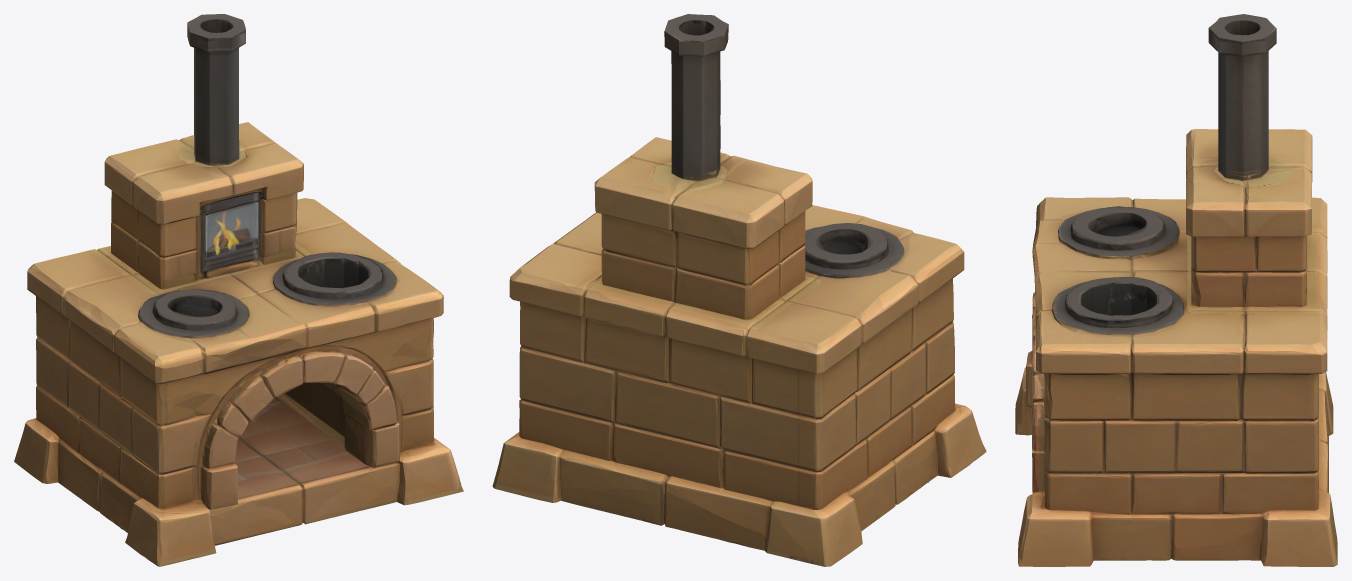
The model's file is Cozy_Hearth_Cauldron_0413143158_texture.fbx.
3 renders of one model, left to right at view 1: azimuth 30°, elevation 25°; view 2: azimuth 150°, elevation 25°; view 3: azimuth 270°, elevation 25°, orthographic. The views are drawn at different scales.
Visible parts, largest first — view 1: temp; view 2: temp; view 3: temp.
Boxes of the visible parts, left/top/right/bottom form: temp: left=14, top=14, right=463, bottom=566; temp: left=492, top=14, right=986, bottom=566; temp: left=1015, top=14, right=1337, bottom=566.
Bounding box in the file's own units: 151 × 200 × 126.
1 material, 1 textured.
